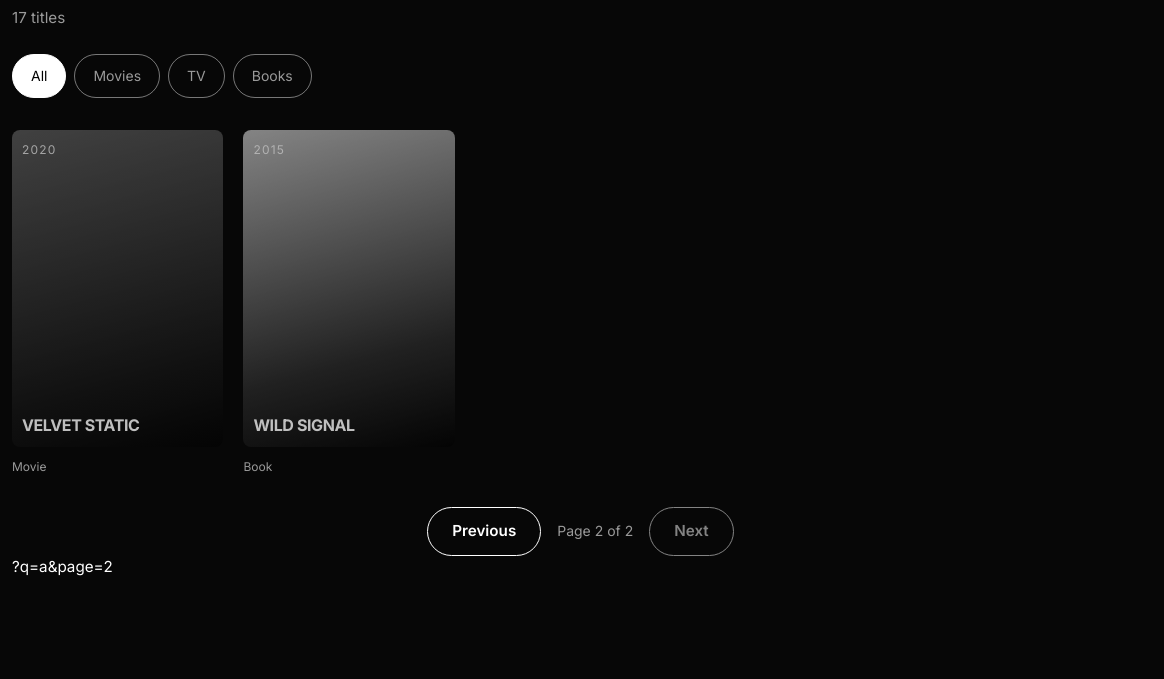
Test: Browse › choosing a pill writes type to the URL, keeps q and drops the page
The width and height of the screenshot is (1164, 679).
Click the button "Movies". click: (117, 76)
box: [74,54,160,98]
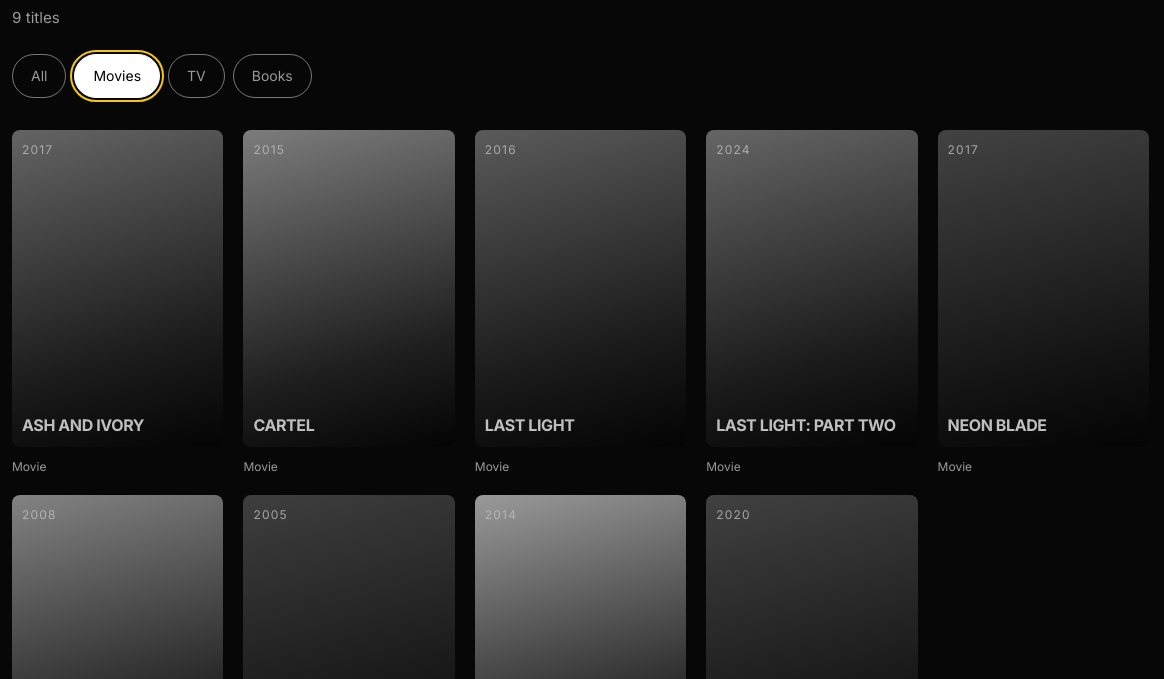
Click the button "All". click: (39, 76)
box: [12,54,66,98]
(page scrolled)
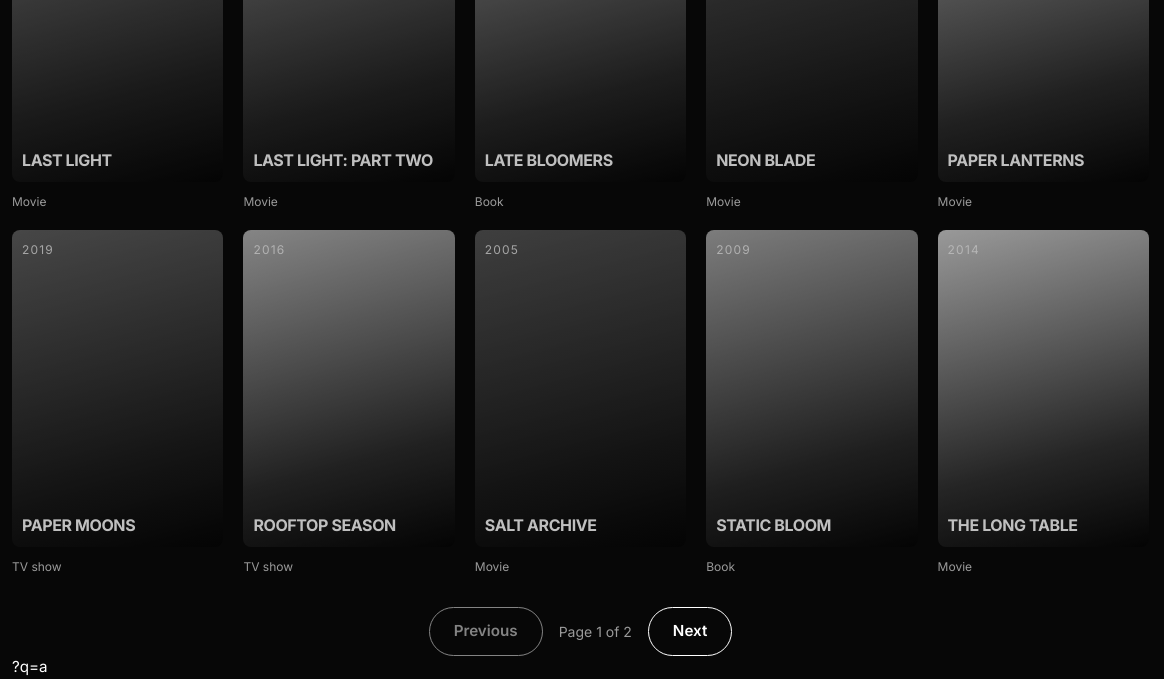
Now the text with test id "where" reads "?q=a", box [12,657,48,676]
Now the text with test id "where" no longer shows "type", box [12,657,48,676]
